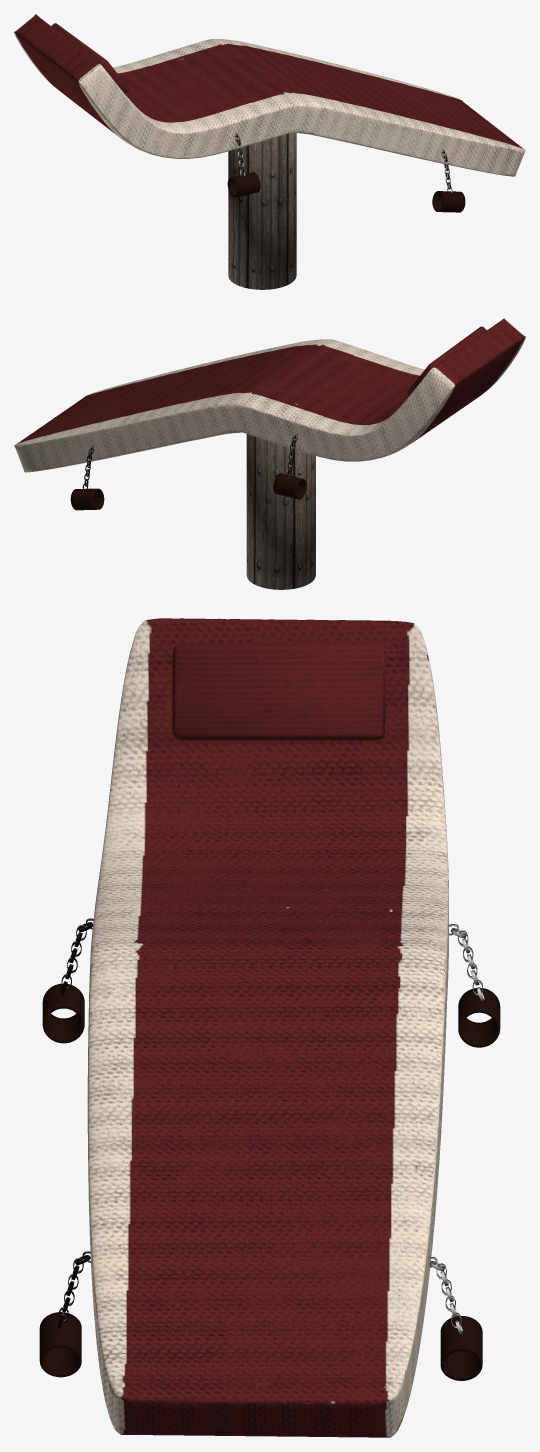
File: Bed.fbx
3 views of the same model, one above another, from view 1: azimuth 30°, elevation 25°; view 2: azimuth 150°, elevation 25°; view 3: azimuth 270°, elevation 25° (orthographic). The views are drawn at different scales.
Parts seen in each view (by area): view 1: Bed_1, Bed_Stand, Restraint_2, Restraint_3, Pillow; view 2: Bed_1, Bed_Stand, Restraint, Restraint_4, Pillow; view 3: Bed_1, Pillow, Restraint_2, Restraint, Restraint_4, Restraint_3.
Boxes of the visible parts, <box> form: Bed_1: <box>14,14,525,176</box>; Bed_Stand: <box>228,133,296,289</box>; Restraint_2: <box>432,149,465,212</box>; Restraint_3: <box>227,133,260,197</box>; Pillow: <box>51,23,128,93</box>; Bed_1: <box>14,318,525,472</box>; Bed_Stand: <box>246,434,315,589</box>; Restraint: <box>70,445,104,510</box>; Restraint_4: <box>273,434,306,499</box>; Pillow: <box>407,326,486,395</box>; Bed_1: <box>87,618,448,1437</box>; Pillow: <box>172,643,385,740</box>; Restraint_2: <box>39,1251,91,1377</box>; Restraint: <box>428,1257,482,1380</box>; Restraint_4: <box>449,924,500,1047</box>; Restraint_3: <box>42,918,93,1043</box>.
Size of the model in its own units: 293 by 176 by 131.
